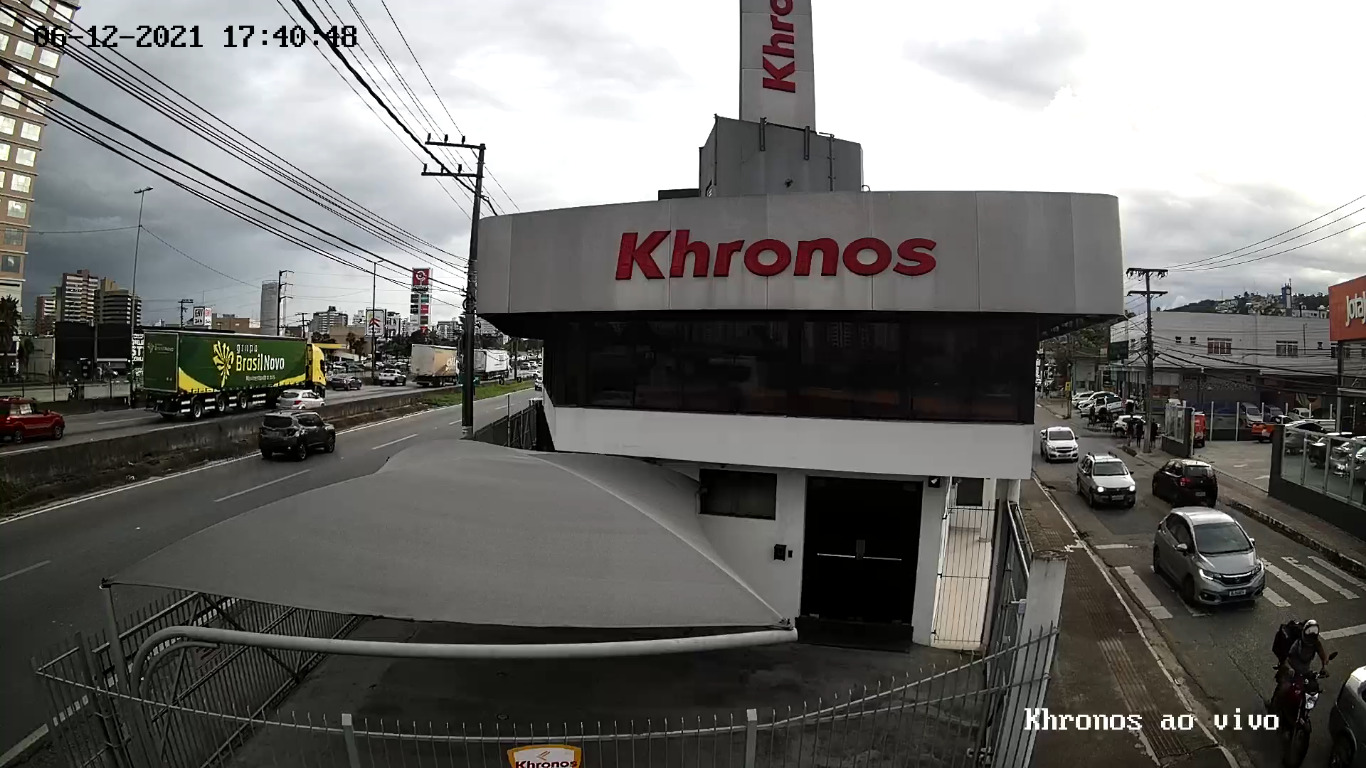car: (1151, 505, 1264, 609), (1074, 450, 1136, 506), (1151, 458, 1219, 507), (1040, 423, 1080, 465)
